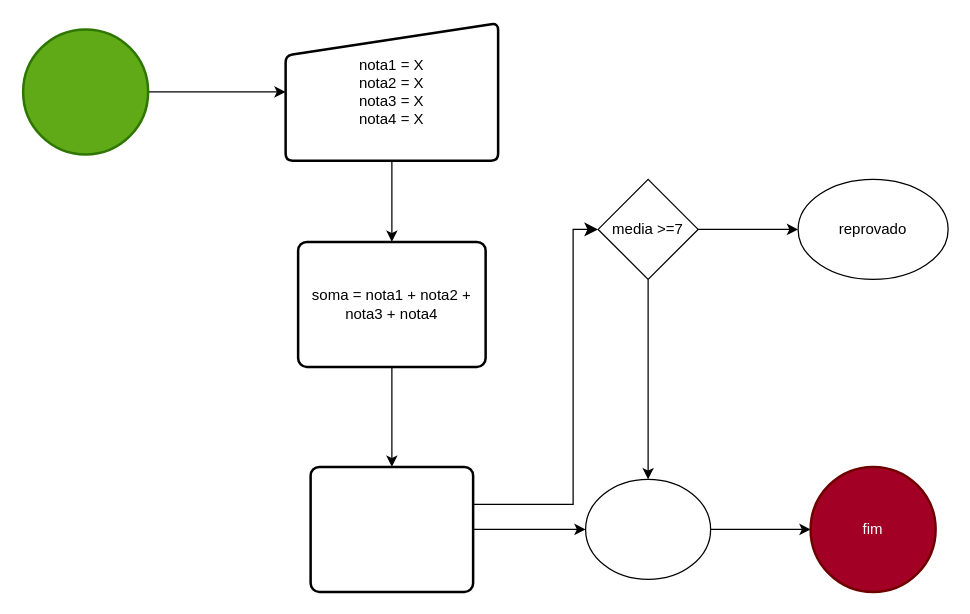
This 970x614 diagram has some shape labels left out. The shapes that lost their labels are listed below. From the top down, each one's centre as x and y in pixels, then its label:
At pixel 391 528: "media = soma / 4".
At pixel 647 528: "aprovado".
